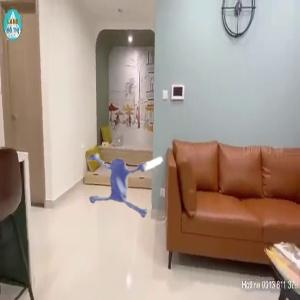drone: (73, 123, 189, 239)
